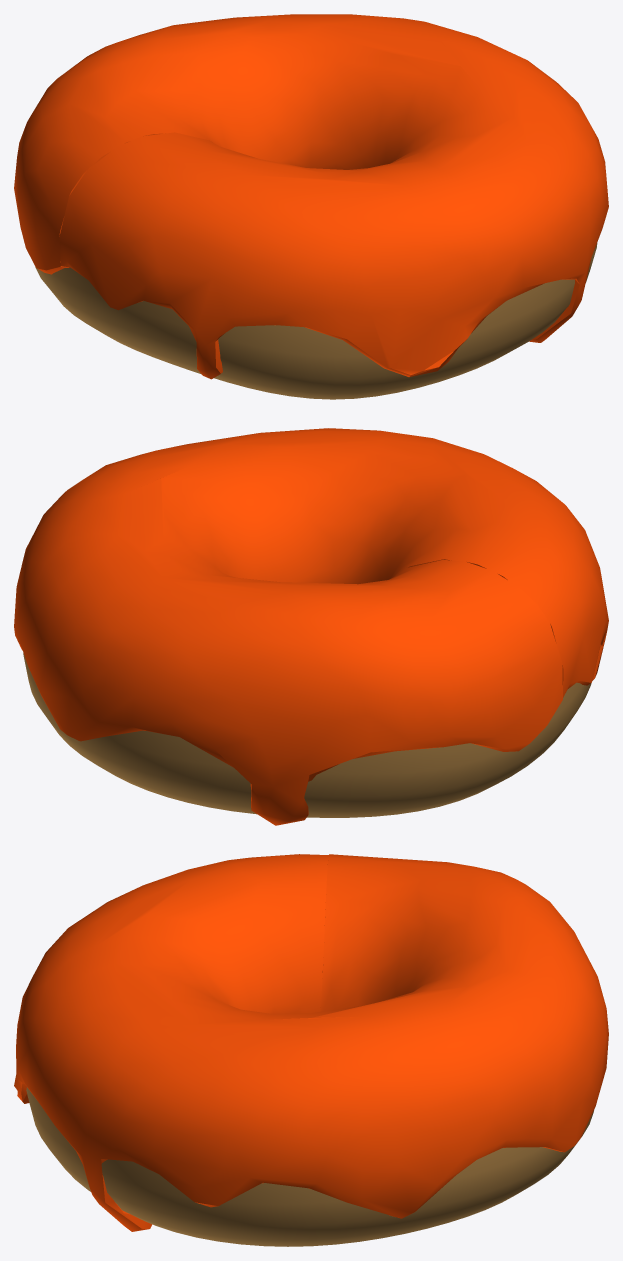
File: donut.glb
3 renders of one model, top to bottom at view 1: azimuth 30°, elevation 25°; view 2: azimuth 150°, elevation 25°; view 3: azimuth 270°, elevation 25°, orthographic. The views are drawn at different scales.
Parts seen in each view (by area): view 1: Icing_1, Donut_0; view 2: Icing_1, Donut_0; view 3: Icing_1, Donut_0.
Boxes of the visible parts, box(x1,y1,x2,y2) form: Icing_1: box(14, 14, 608, 379); Donut_0: box(35, 243, 597, 399); Icing_1: box(14, 428, 608, 825); Donut_0: box(23, 653, 591, 817); Icing_1: box(14, 854, 608, 1231); Donut_0: box(26, 1087, 593, 1246).
Size of the model in its own units: 4.87 by 2.05 by 4.87.
